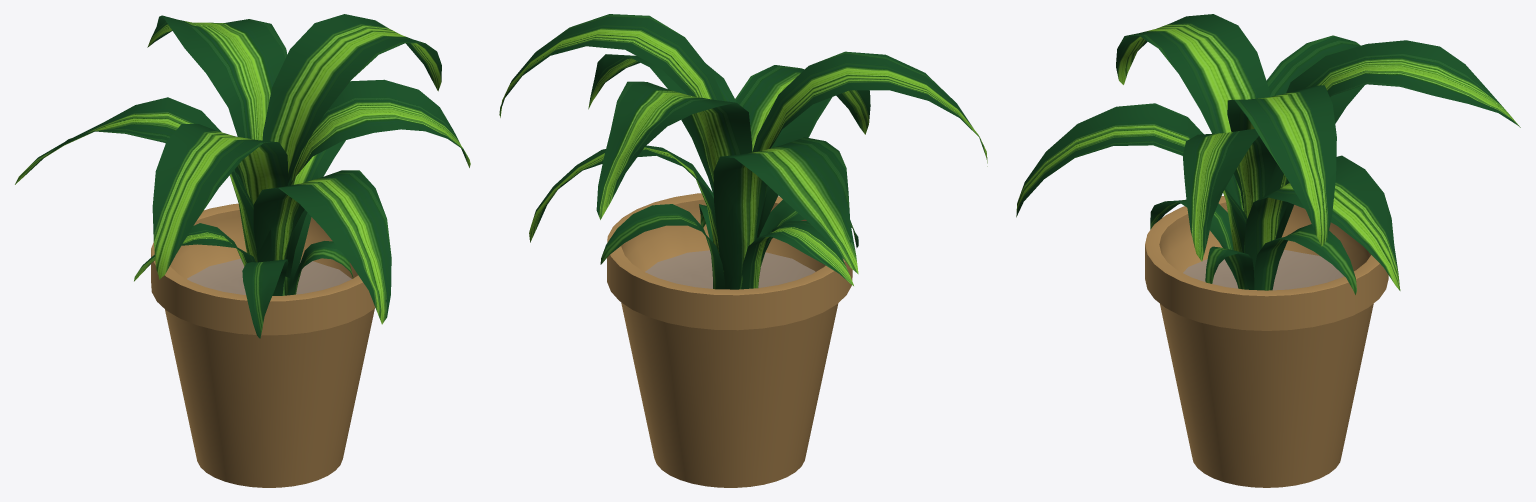
File: sh_scopia_maceta.glb
The picture shows the model from 3 angles, left to right: view 1: azimuth 30°, elevation 25°; view 2: azimuth 150°, elevation 25°; view 3: azimuth 270°, elevation 25°; orthographic projection. The views are drawn at different scales.
Size of the model in its own units: 0.59 by 0.58 by 0.65.
3 materials, 1 textured.
